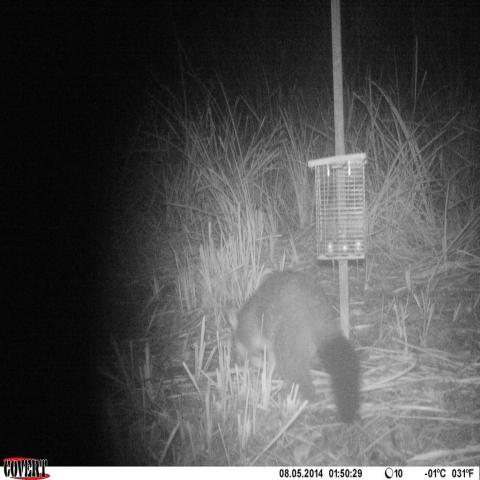small_animal: (228, 267, 363, 422)
